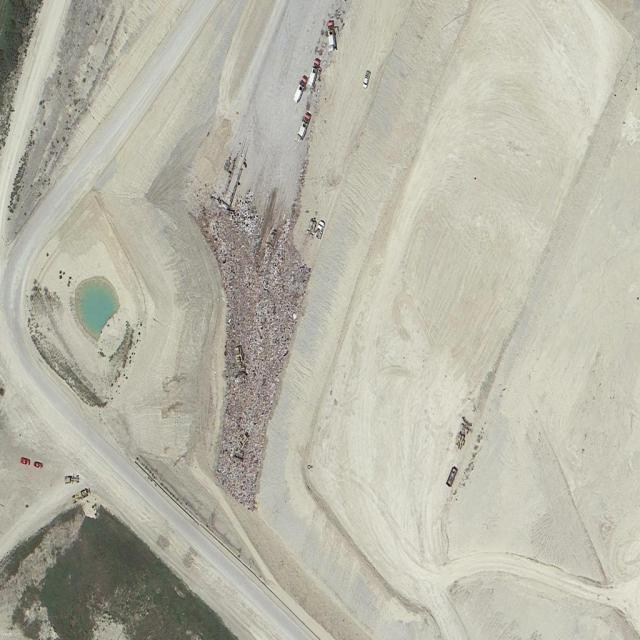dump_site: (152, 153, 329, 512)
